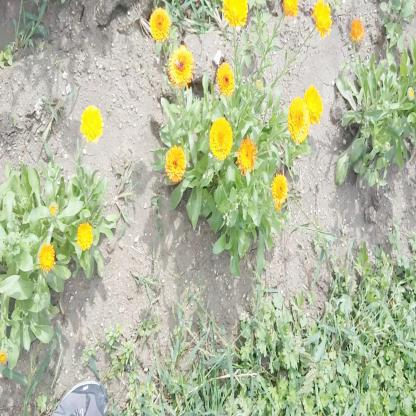marigold: (210, 116, 234, 158), (168, 47, 194, 84), (288, 96, 308, 140), (312, 0, 333, 40), (78, 102, 101, 138), (221, 0, 249, 29), (237, 135, 258, 171), (166, 144, 186, 180), (306, 85, 324, 123), (150, 9, 171, 40), (37, 240, 56, 274), (217, 62, 235, 96), (271, 174, 288, 208), (75, 222, 93, 252)
